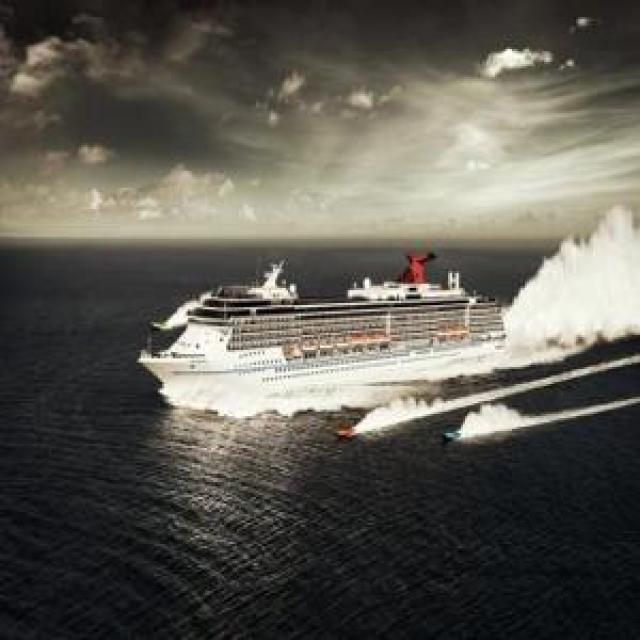houseboat: (330, 416, 357, 444), (146, 312, 166, 334), (440, 425, 464, 442)
passenger ship: (140, 270, 507, 393)
